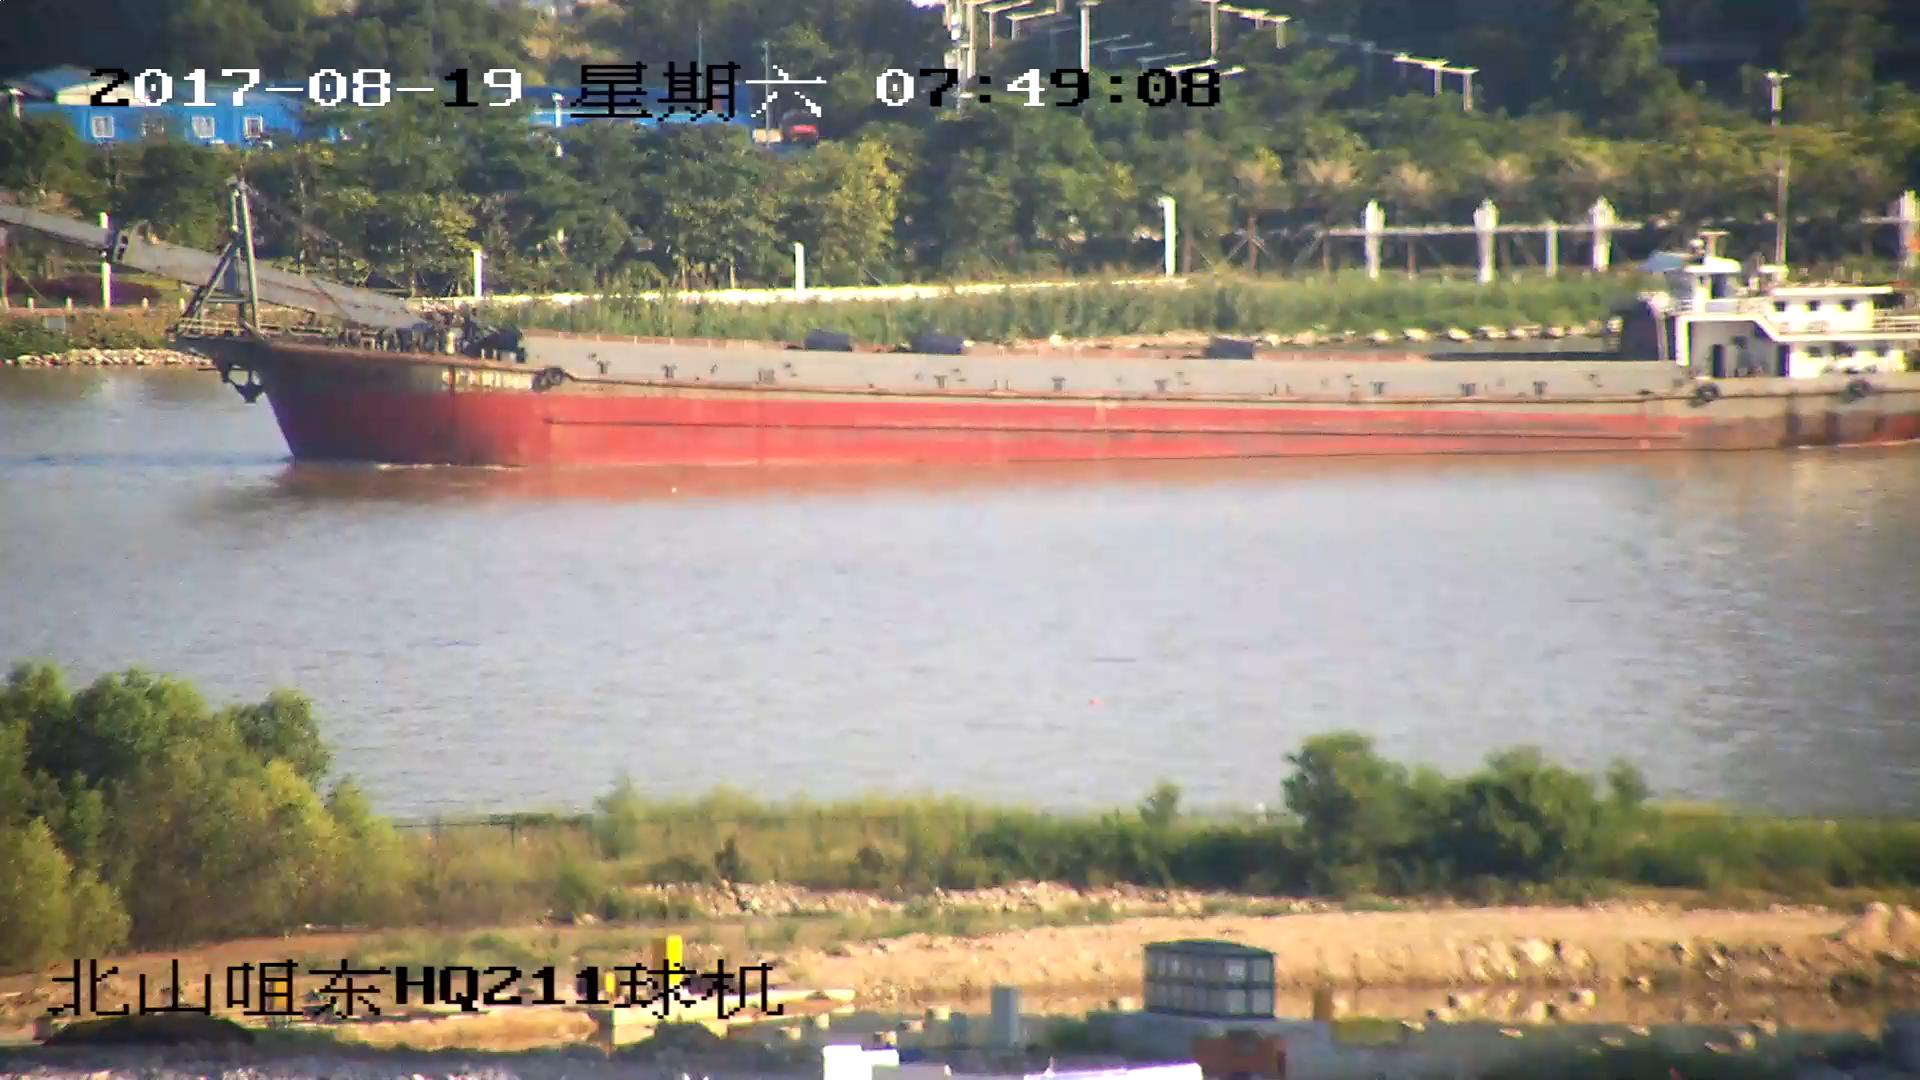bulk cargo carrier: (1, 180, 1920, 464)
